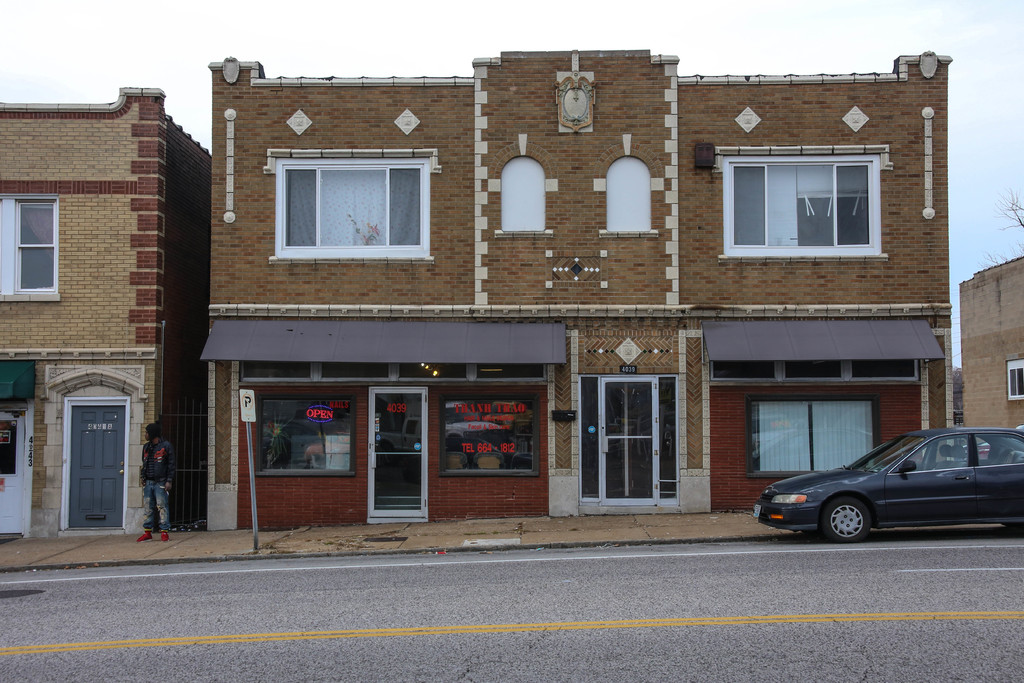Car: (750, 427, 1023, 543)
